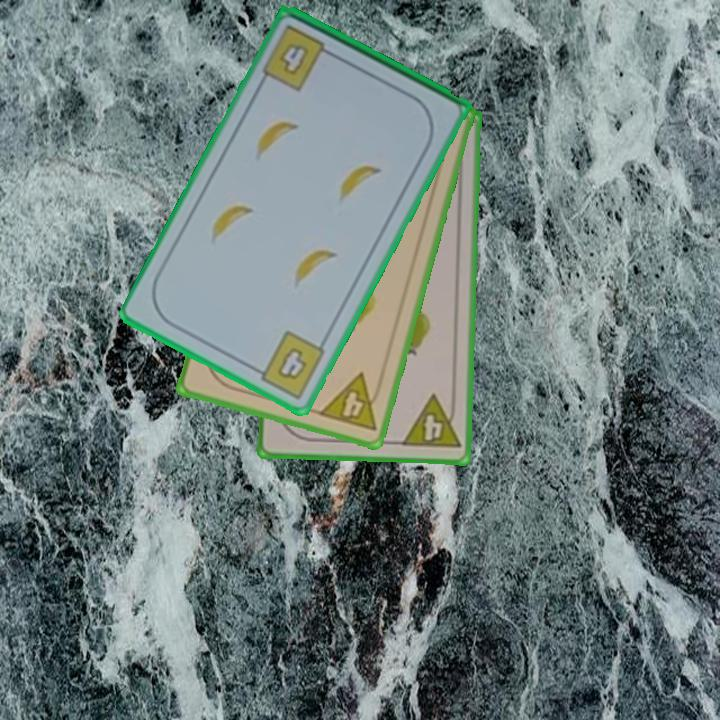4b: (248, 327, 329, 402), (262, 21, 339, 95)
4p: (315, 369, 387, 435), (398, 391, 463, 452)
